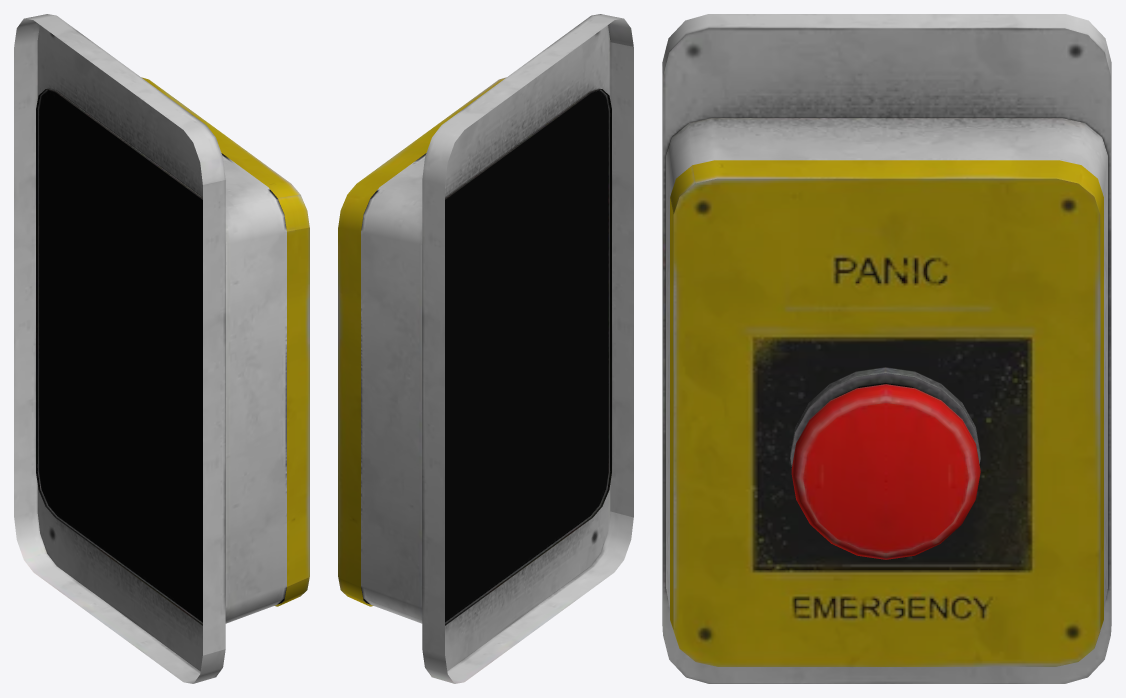
Rendered from alarm-button.glb.
The picture shows the model from 3 angles, left to right: view 1: azimuth 30°, elevation 25°; view 2: azimuth 150°, elevation 25°; view 3: azimuth 270°, elevation 25°; orthographic projection. The views are drawn at different scales.
Parts seen in each view (by area): view 1: Object_2; view 2: Object_2; view 3: Object_2.
Part boxes in pixels (x1,y1,x2,y2): Object_2: (14,14,309,683); Object_2: (338,14,633,683); Object_2: (662,14,1111,683).
Size of the model in its own units: 0.0351 by 0.12 by 0.0743.
Materials: 1 (1 with a texture image).
